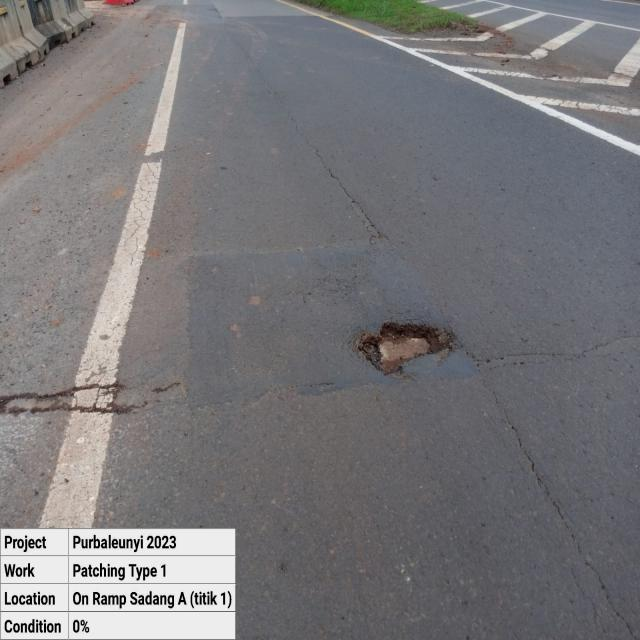Buraco: (348, 317, 467, 383)
